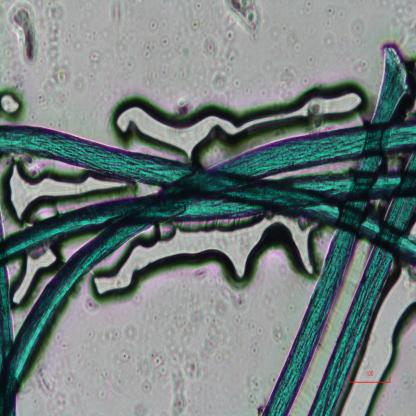Air bubble: (107, 75, 364, 150), (90, 219, 322, 298), (336, 268, 416, 414), (4, 157, 134, 215), (10, 245, 60, 312), (0, 87, 29, 124)
Background material: (260, 46, 410, 415), (174, 300, 228, 374), (185, 54, 242, 104), (5, 1, 43, 73), (225, 2, 263, 43), (55, 337, 82, 391), (271, 62, 307, 102), (77, 345, 116, 380), (265, 21, 305, 52), (388, 0, 413, 46), (109, 325, 138, 364), (108, 32, 134, 75), (66, 16, 97, 52), (44, 3, 62, 61), (179, 0, 208, 27), (170, 366, 186, 414), (245, 372, 265, 409), (34, 365, 54, 401), (142, 35, 172, 59), (247, 320, 264, 360), (150, 348, 168, 380), (52, 60, 72, 87), (87, 48, 99, 92), (351, 16, 367, 48), (201, 35, 221, 60), (323, 7, 345, 29), (107, 1, 121, 32), (174, 96, 190, 120), (82, 296, 101, 316), (303, 2, 320, 20), (148, 17, 159, 34), (98, 385, 109, 399)
Microfibre: (0, 121, 416, 412), (0, 124, 416, 264), (0, 166, 416, 265), (308, 151, 416, 415), (0, 207, 20, 415)
